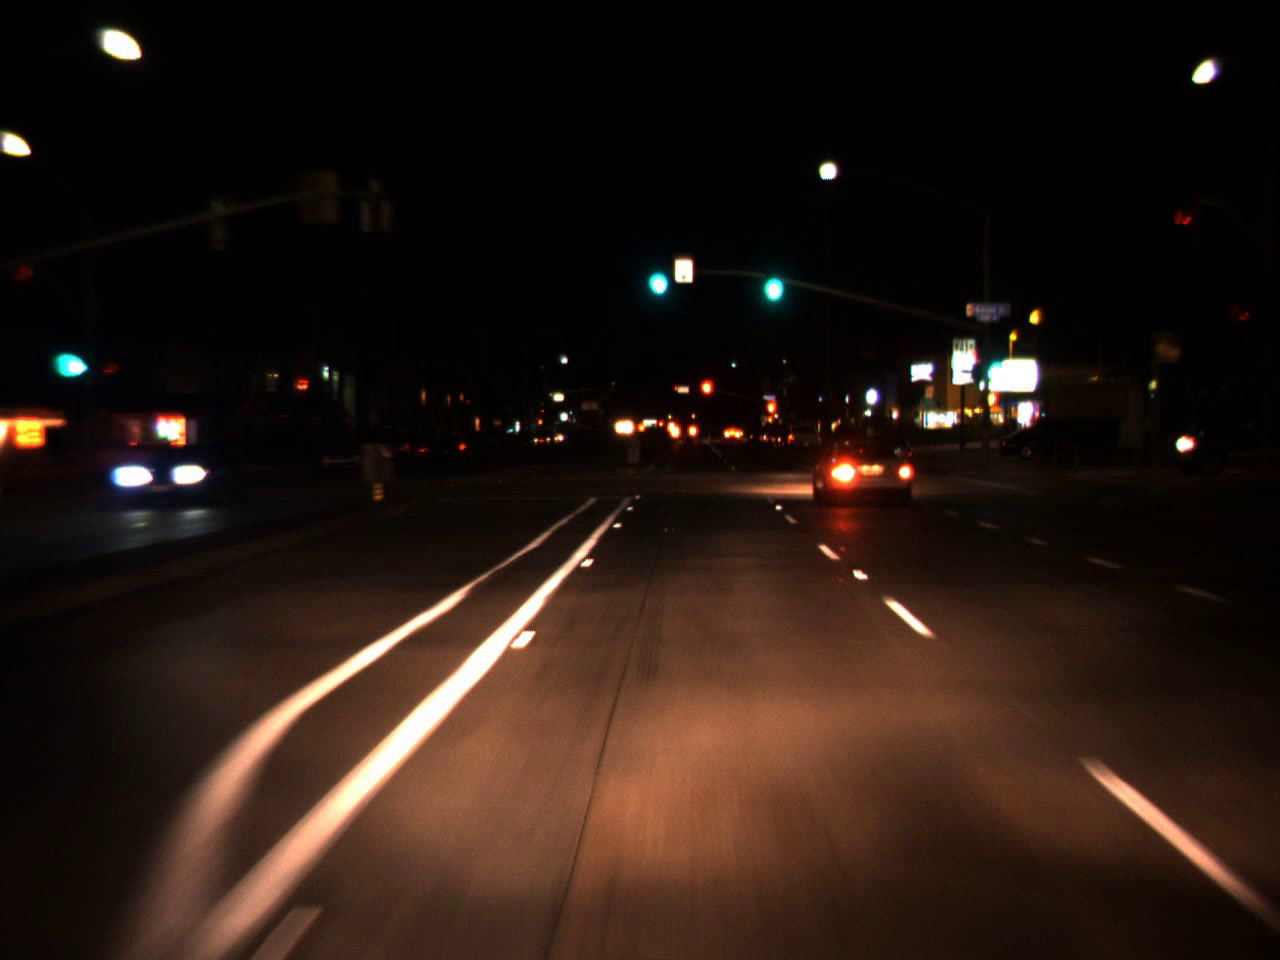go: (46, 323, 89, 386), (757, 247, 787, 310), (641, 244, 671, 304), (982, 347, 1007, 383)
stop: (698, 377, 714, 412), (766, 396, 778, 433)
